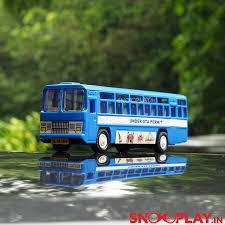bus: (40, 80, 189, 157)
